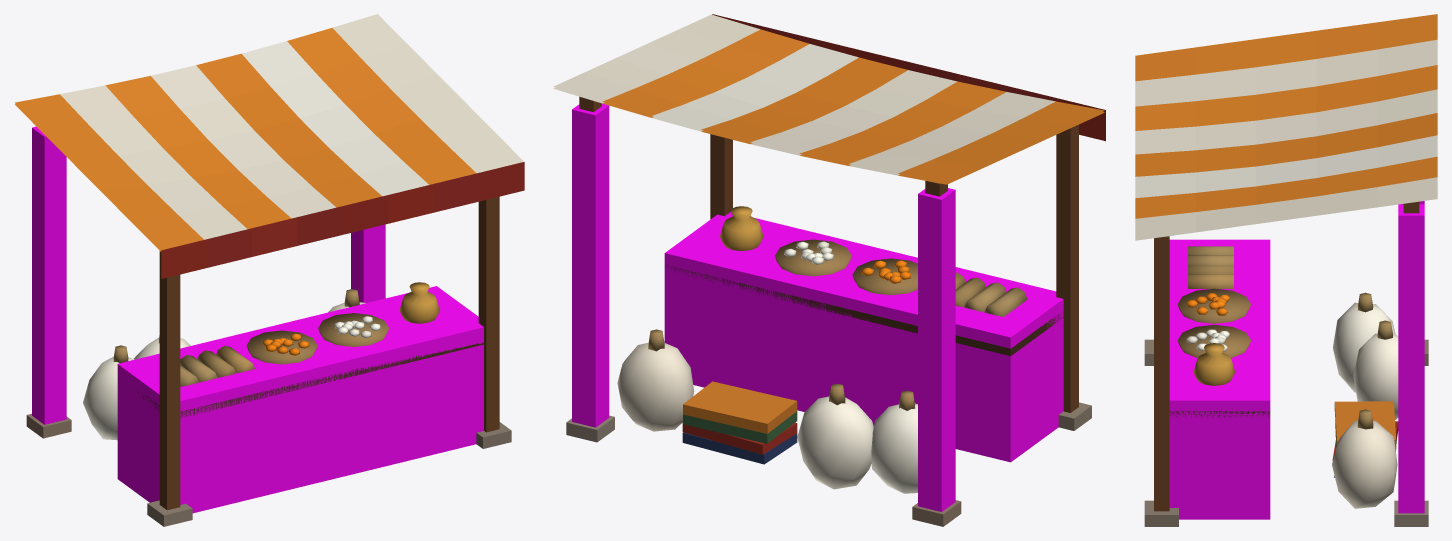
Rendered from ENV_Market_Stall_A.glb.
3 views of the same model, side by side, from view 1: azimuth 30°, elevation 25°; view 2: azimuth 150°, elevation 25°; view 3: azimuth 270°, elevation 25° (orthographic). The views are drawn at different scales.
Visible parts, largest first — view 1: ENV_Market_Stall_A_Mesh, COL_Counter, COL_Post_-1, COL_Post_1; view 2: ENV_Market_Stall_A_Mesh, COL_Counter, COL_Post_1, COL_Post_-1; view 3: ENV_Market_Stall_A_Mesh, COL_Counter, COL_Post_1.
Part boxes in pixels (box(x1,y1,x2,y2)): ENV_Market_Stall_A_Mesh: box(15, 14, 524, 526); COL_Counter: box(117, 286, 483, 513); COL_Post_-1: box(32, 126, 66, 424); COL_Post_1: box(351, 224, 385, 302); ENV_Market_Stall_A_Mesh: box(553, 14, 1105, 526); COL_Counter: box(664, 212, 1063, 462); COL_Post_1: box(572, 103, 609, 427); COL_Post_-1: box(918, 188, 955, 511); ENV_Market_Stall_A_Mesh: box(1135, 14, 1437, 526); COL_Counter: box(1169, 239, 1270, 519); COL_Post_1: box(1398, 204, 1424, 513).
Size of the model in its own units: 3.3 by 2.86 by 2.31.
